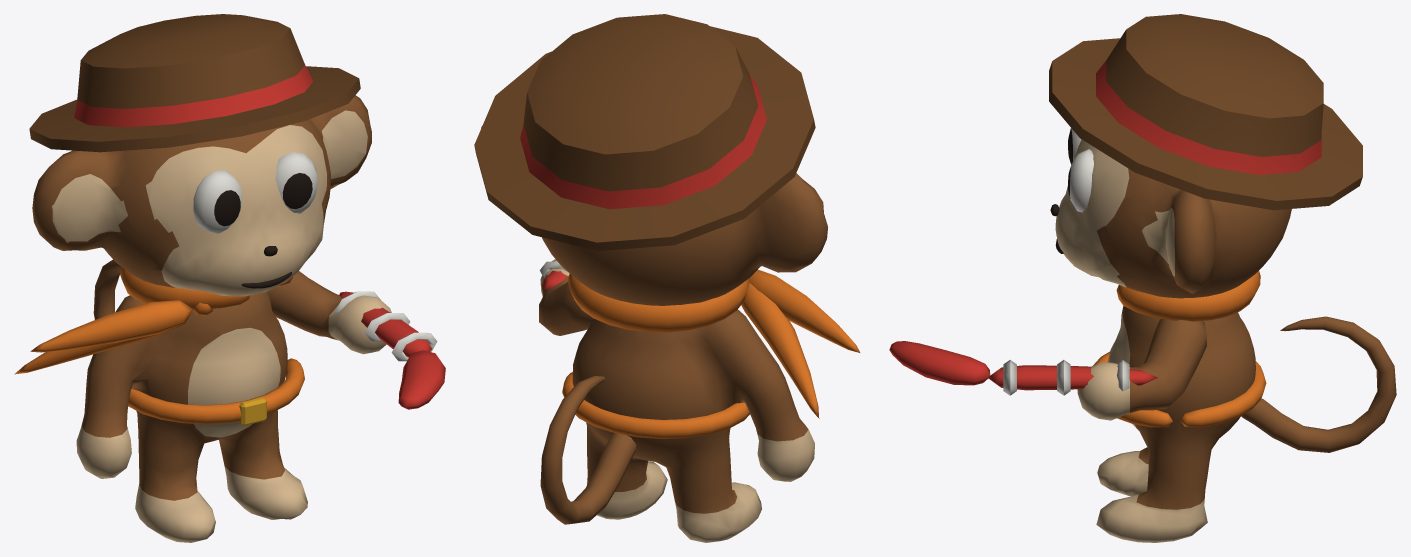
3 views of the same model, side by side, from view 1: azimuth 30°, elevation 25°; view 2: azimuth 150°, elevation 25°; view 3: azimuth 270°, elevation 25° (orthographic). The views are drawn at different scales.
Parts seen in each view (by area): view 1: bumerangue_2_cabeca, bumerangue_0_corpo, bumerangue_3_braco, bumerangue_1_cauda; view 2: bumerangue_2_cabeca, bumerangue_0_corpo, bumerangue_1_cauda, bumerangue_3_braco; view 3: bumerangue_2_cabeca, bumerangue_0_corpo, bumerangue_3_braco, bumerangue_1_cauda.
Part boxes in pixels (x1,y1,x2,y2): bumerangue_2_cabeca: (29,14,371,296); bumerangue_0_corpo: (14,267,307,542); bumerangue_3_braco: (267,271,445,409); bumerangue_1_cauda: (93,259,122,319); bumerangue_2_cabeca: (474,14,827,305); bumerangue_0_corpo: (562,269,860,542); bumerangue_1_cauda: (540,376,636,524); bumerangue_3_braco: (539,259,593,335); bumerangue_2_cabeca: (1049,14,1362,298); bumerangue_0_corpo: (1093,271,1266,542); bumerangue_3_braco: (889,319,1206,420); bumerangue_1_cauda: (1241,316,1396,452).
Size of the model in its own units: 0.8372 by 1.08 by 1.04.
